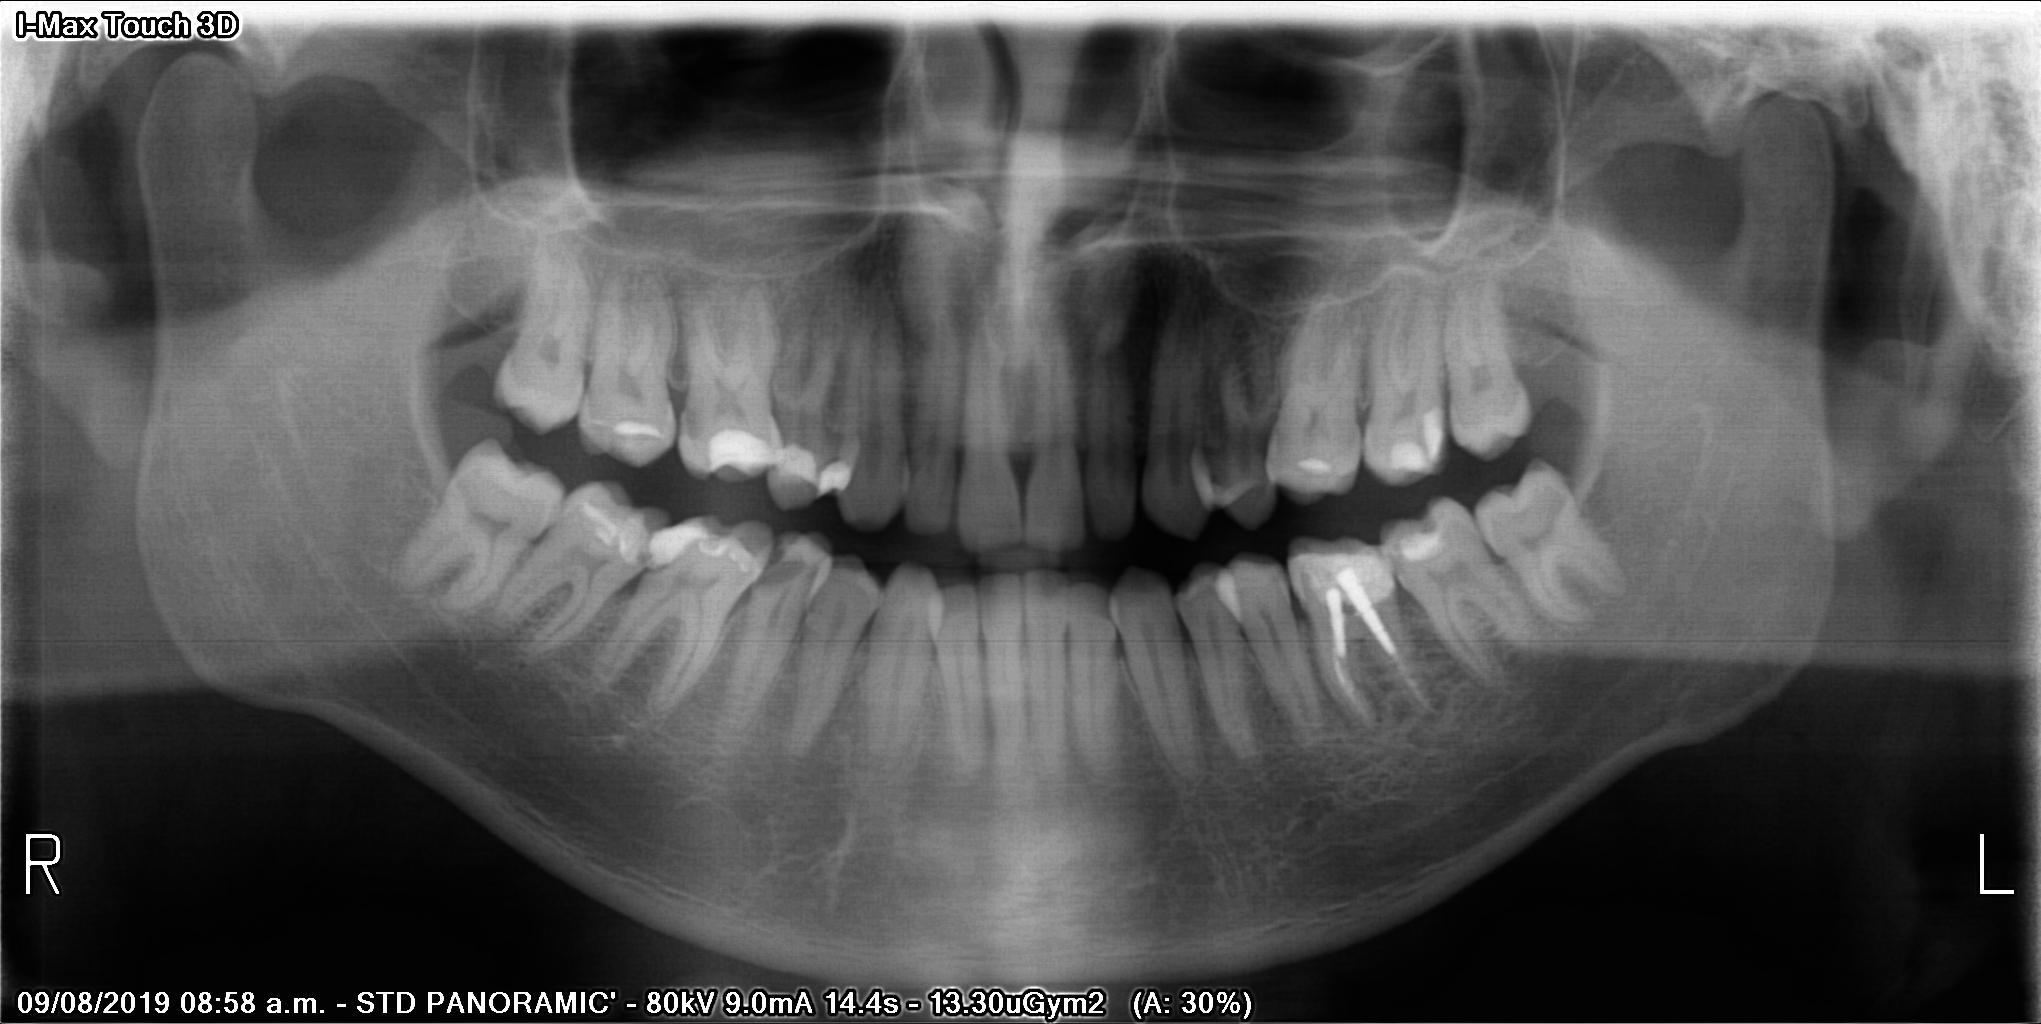Çürük: (1383, 401, 1452, 475), (1324, 538, 1399, 607), (706, 421, 781, 481), (778, 439, 855, 494), (642, 507, 696, 558), (1388, 517, 1457, 556), (606, 421, 670, 453), (1295, 451, 1342, 486)
Çürük Bölgesi: (1291, 566, 1321, 613), (639, 552, 686, 579)
